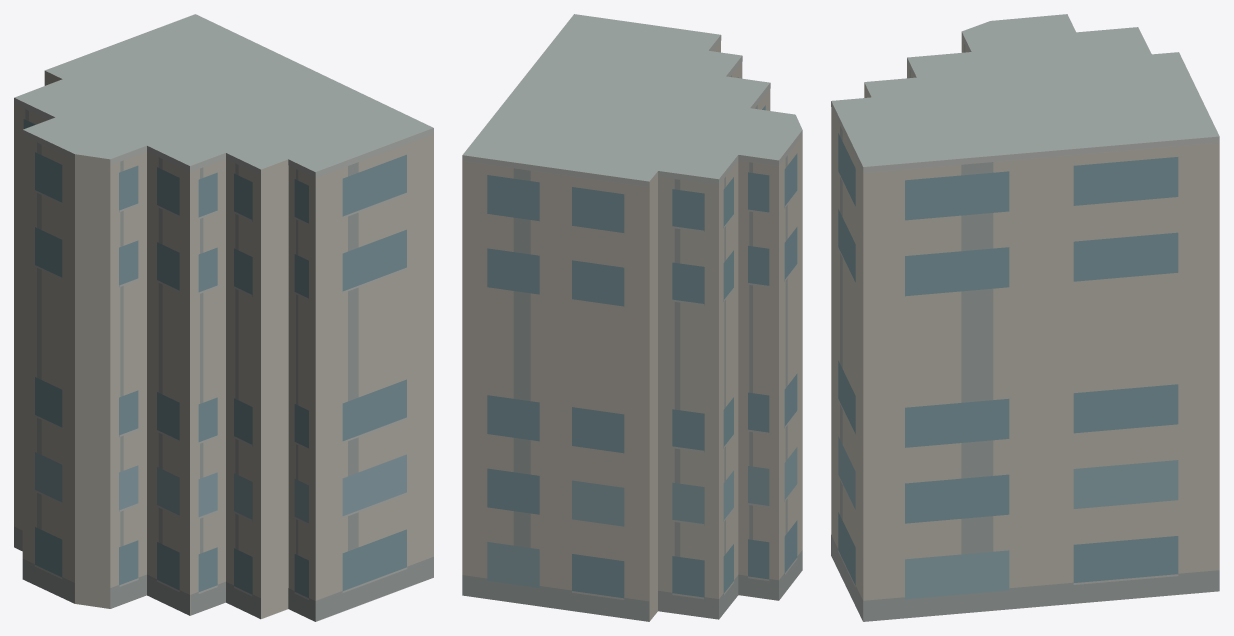
Rendered from survey-upis-32821749.glb.
3 views of the same model, side by side, from view 1: azimuth 30°, elevation 25°; view 2: azimuth 150°, elevation 25°; view 3: azimuth 270°, elevation 25° (orthographic). The views are drawn at different scales.
Visible parts, largest first — view 1: survey-upis-32821749.tmp; view 2: survey-upis-32821749.tmp; view 3: survey-upis-32821749.tmp.
Boxes of the visible parts, x1,y1,x2,y2 form: survey-upis-32821749.tmp: (14, 14, 433, 621); survey-upis-32821749.tmp: (462, 14, 802, 621); survey-upis-32821749.tmp: (831, 14, 1219, 621).
Bounding box in the file's own units: 13.15 × 18.2 × 14.1.
